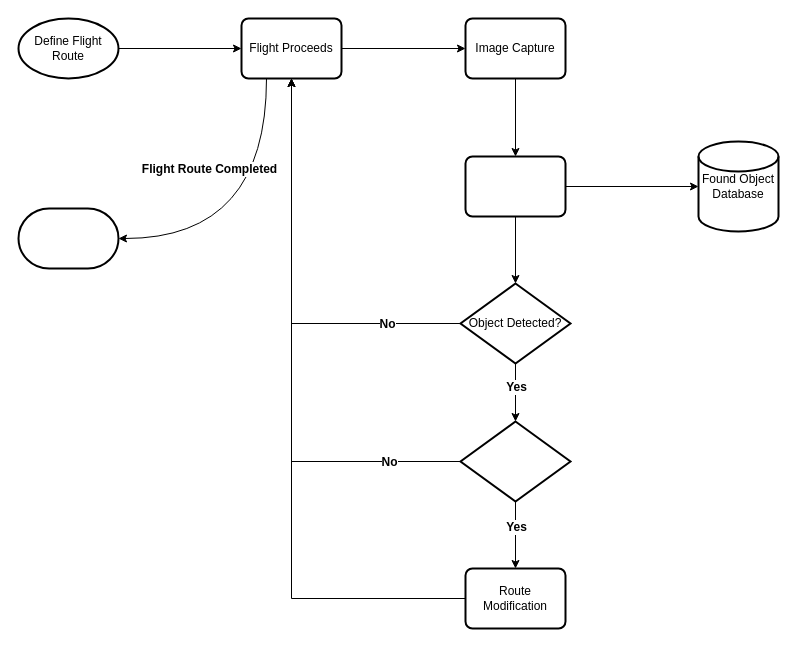
Image size: 796x646. Some labels were removed from this diagram. The centre of each missing label's shape, as x and y in pixels:
Flight Terminates: the point at 68,238
Object Detection Model Run: the point at 515,186
Preempt Flight?: the point at 515,461
